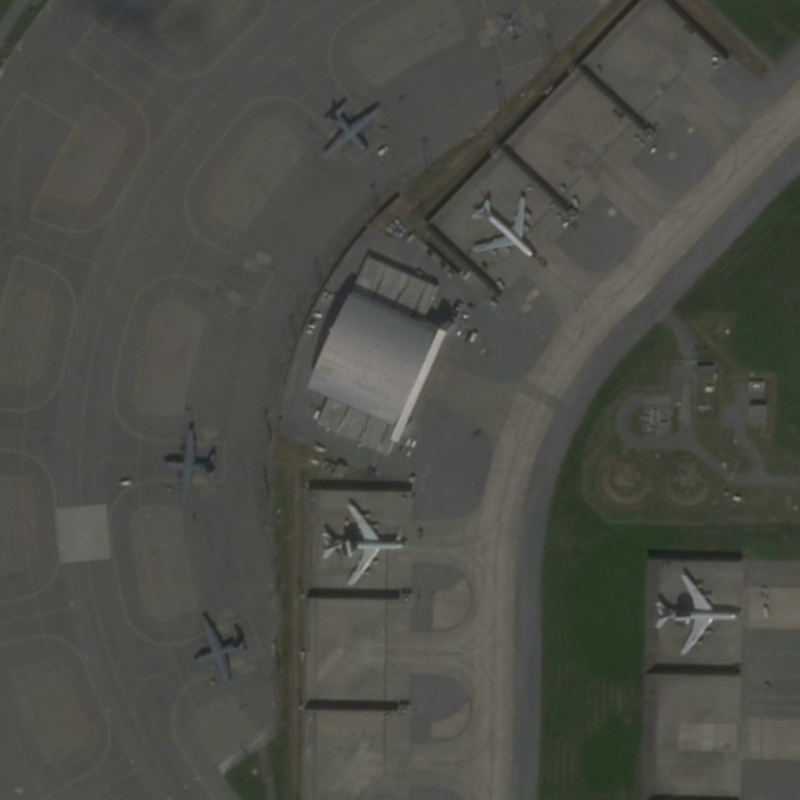A11: (465, 188, 540, 263)
A2: (155, 420, 222, 509), (313, 89, 391, 164), (185, 605, 252, 688)
A7: (313, 493, 410, 592), (649, 563, 746, 660)
